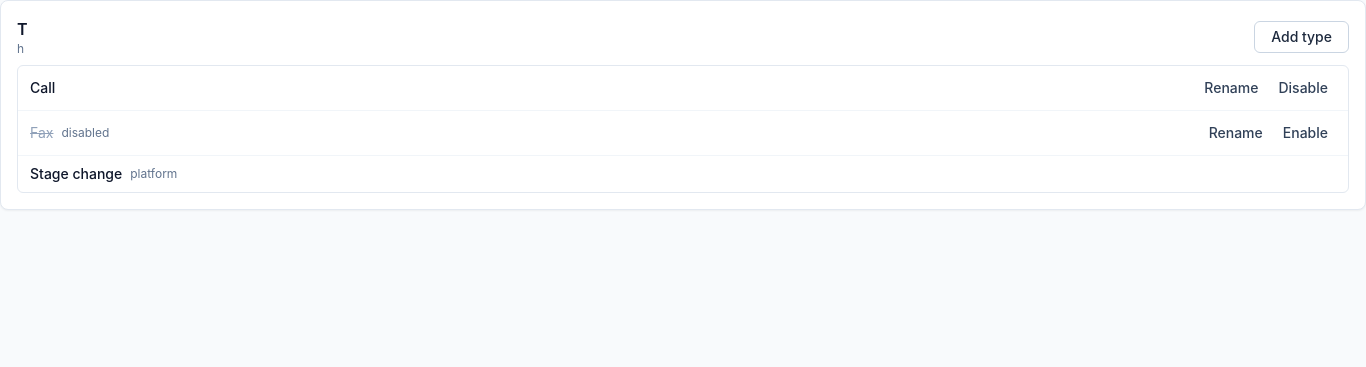
it: NameList › shows the API error, and is read-only without config.manage
Step 1. Click the button "Add type" → (1302, 37), box [1254,21,1349,53]
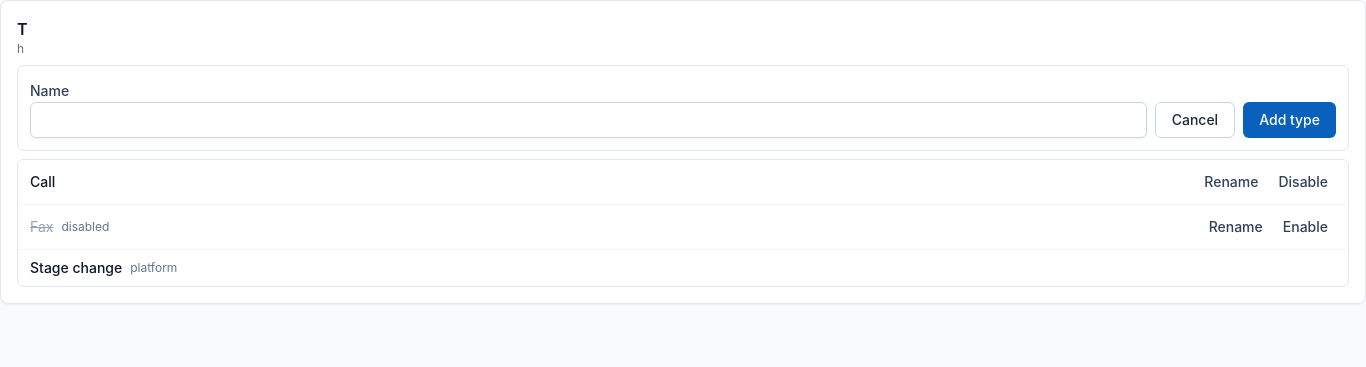
Step 2. Type "Visit" into the field labelled "Name" → (588, 120), box [30,102,1147,138]
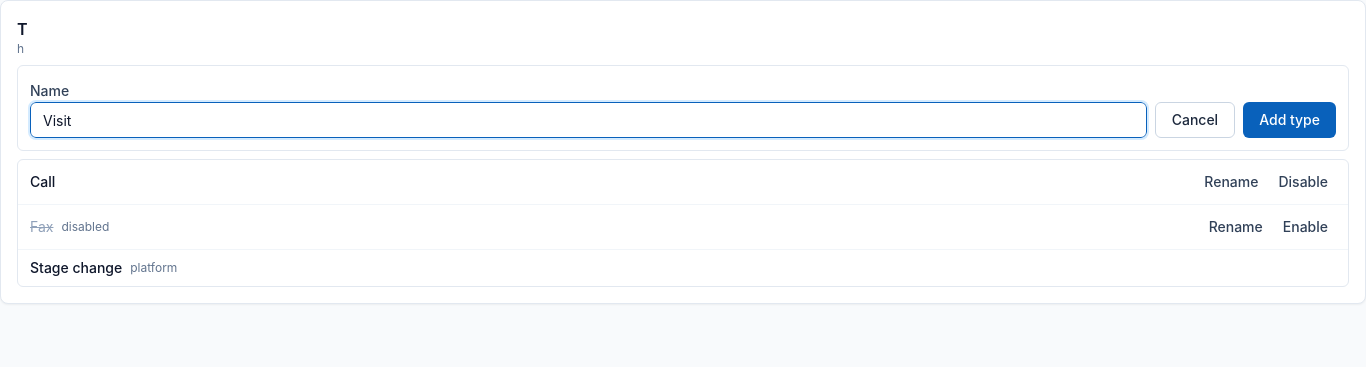
Step 3. Click the button "Add type" → (1290, 120), box [1243,102,1336,138]
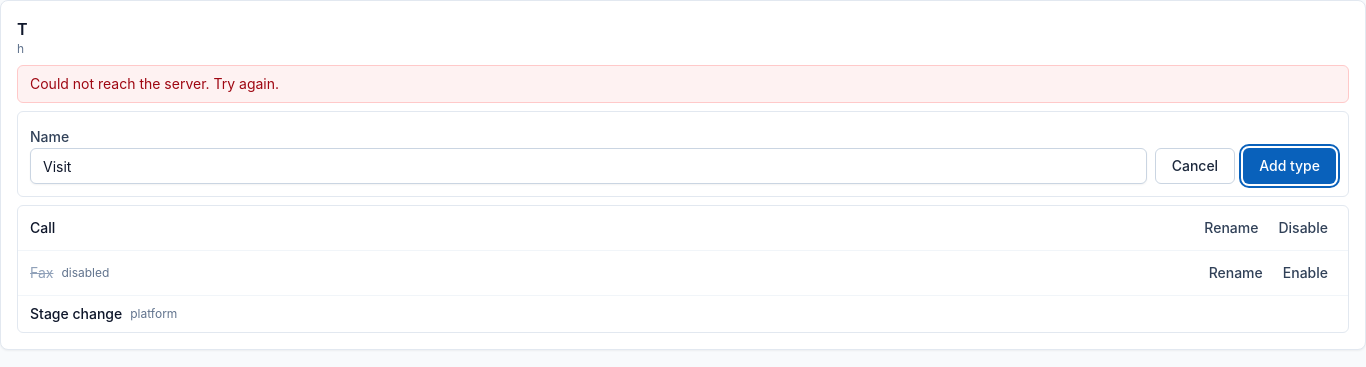
Check: the text "Could not reach the server. Try again." is shown, box [17,65,1349,103]
